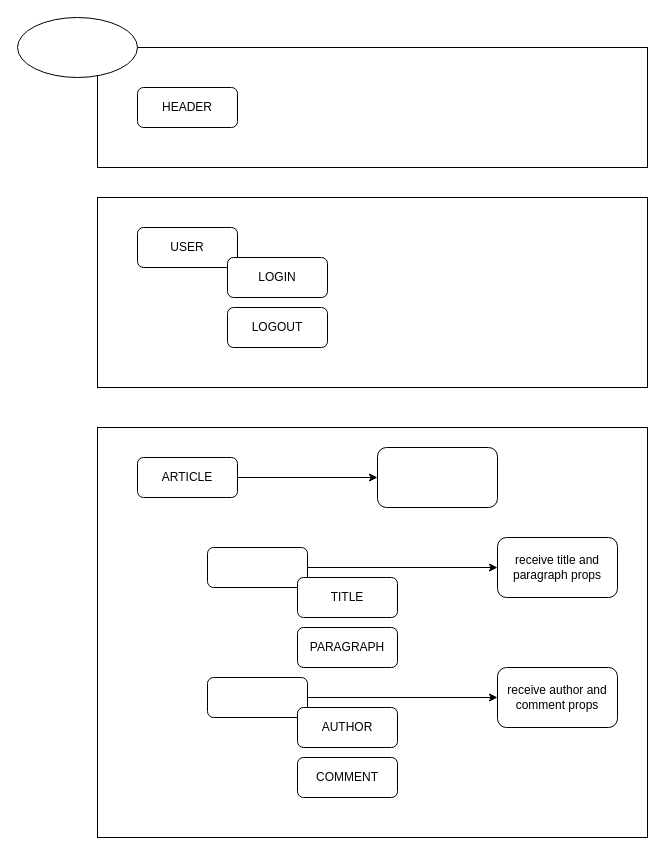
Image size: 665x855. Some labels were removed from this diagram. Each missing label, with the centre of its shape:
APP: the point at 77,47
COMMENTS: the point at 257,697
CONTENT: the point at 257,567
SMART import articles: the point at 437,477
